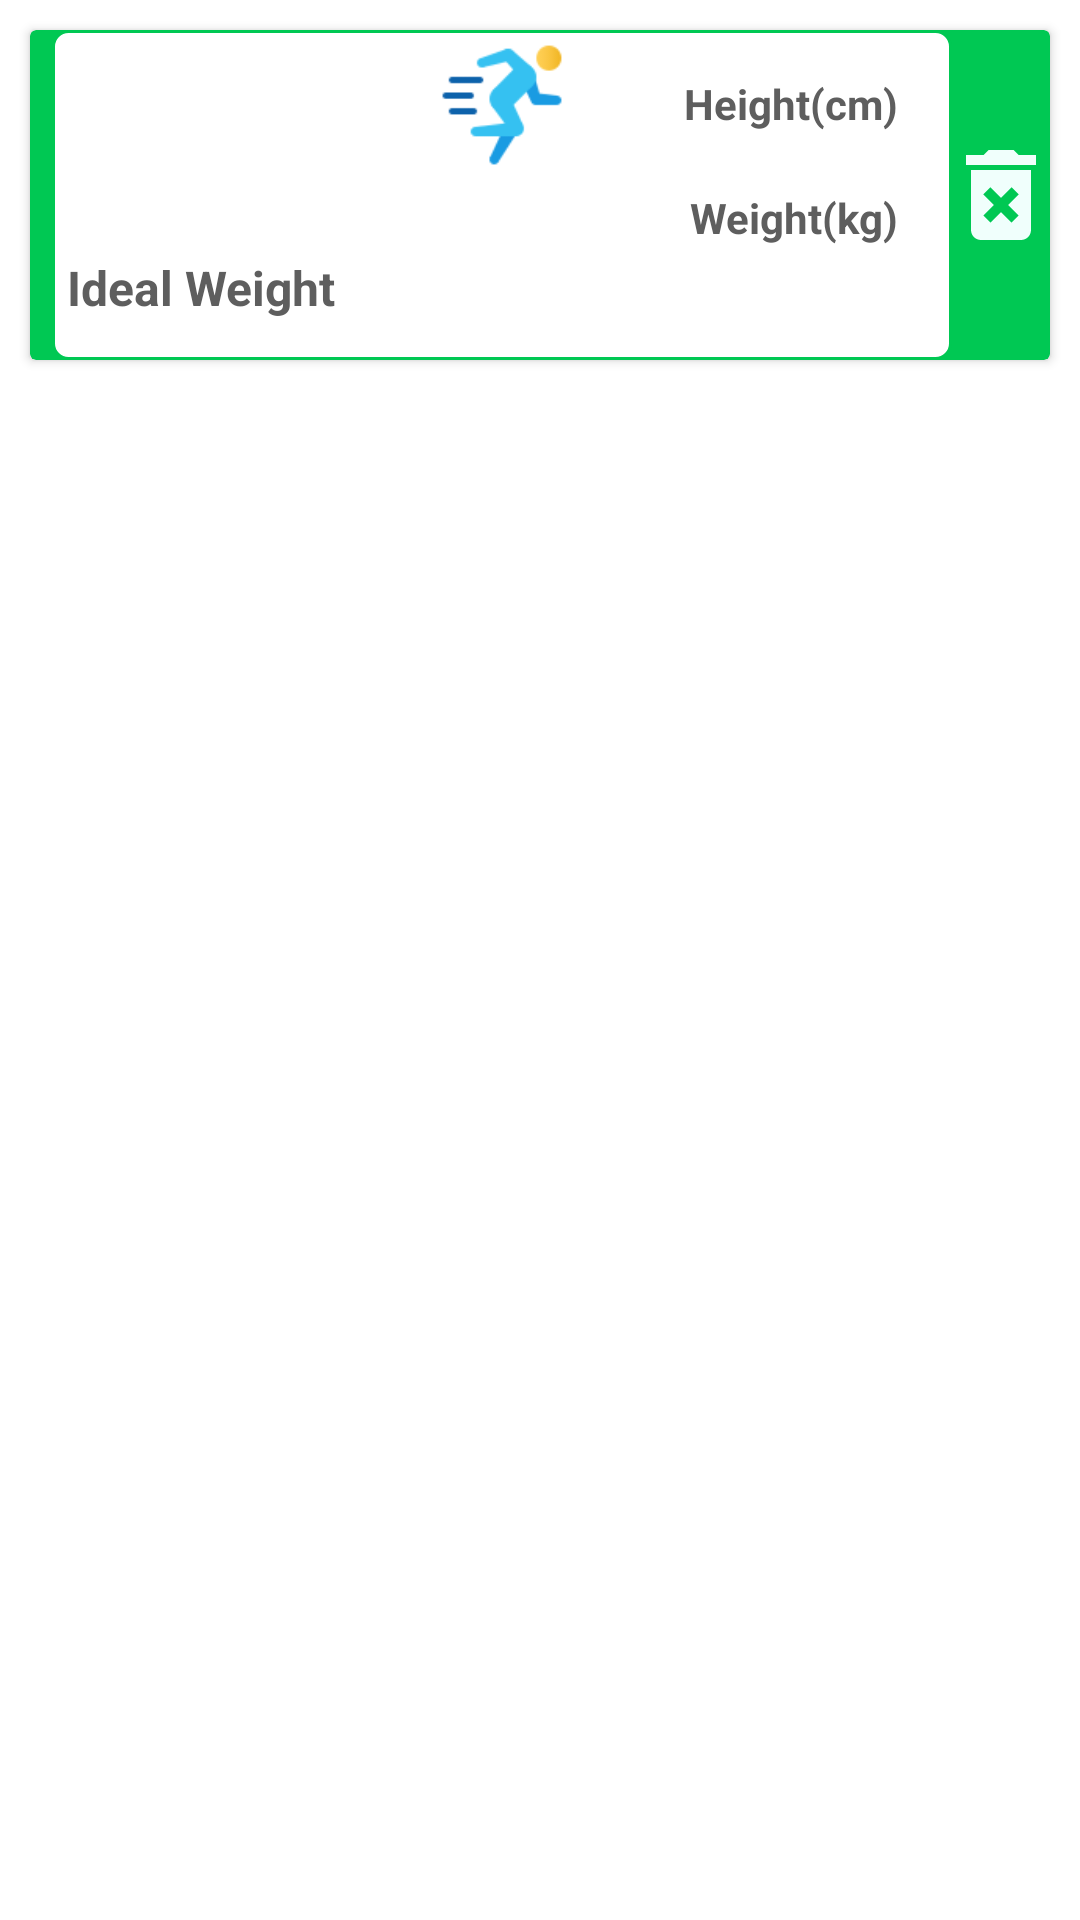

Point at icon controls on the screen. Image size 1080 × 1920, points as point (x, y).
elete: point (995, 195)
exercise: point (502, 105)
